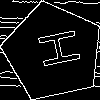H: (28, 26, 81, 72)
